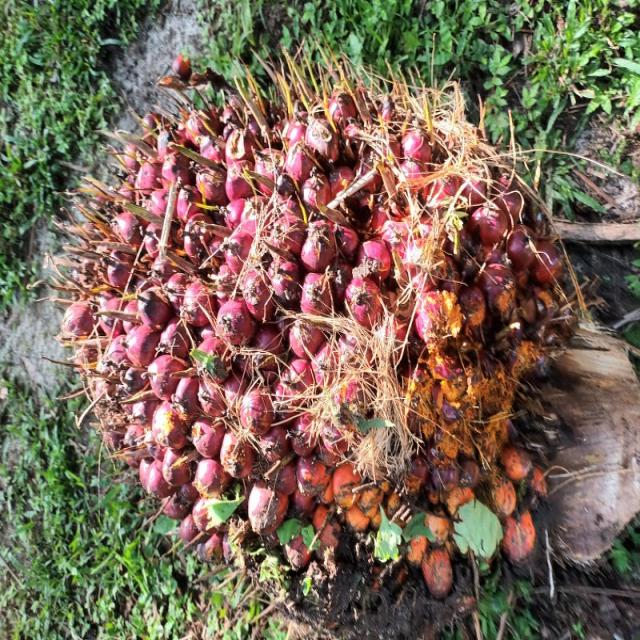fraksi 3: (35, 51, 437, 640)
